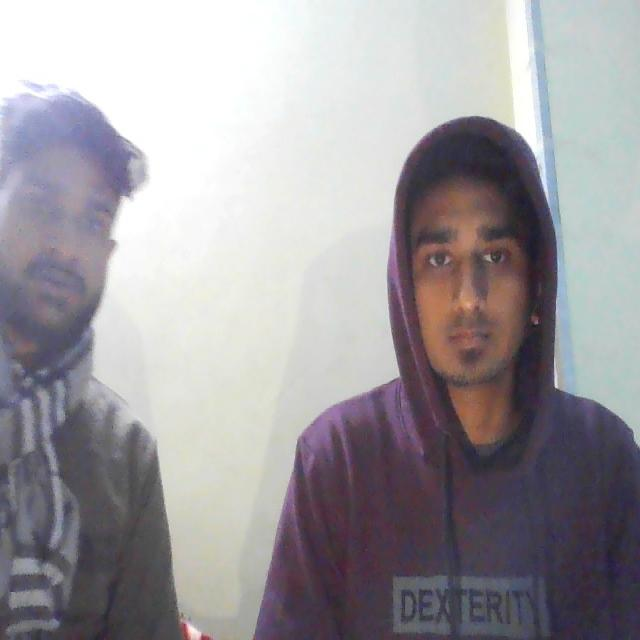real: (393, 108, 556, 416), (0, 76, 145, 349)
